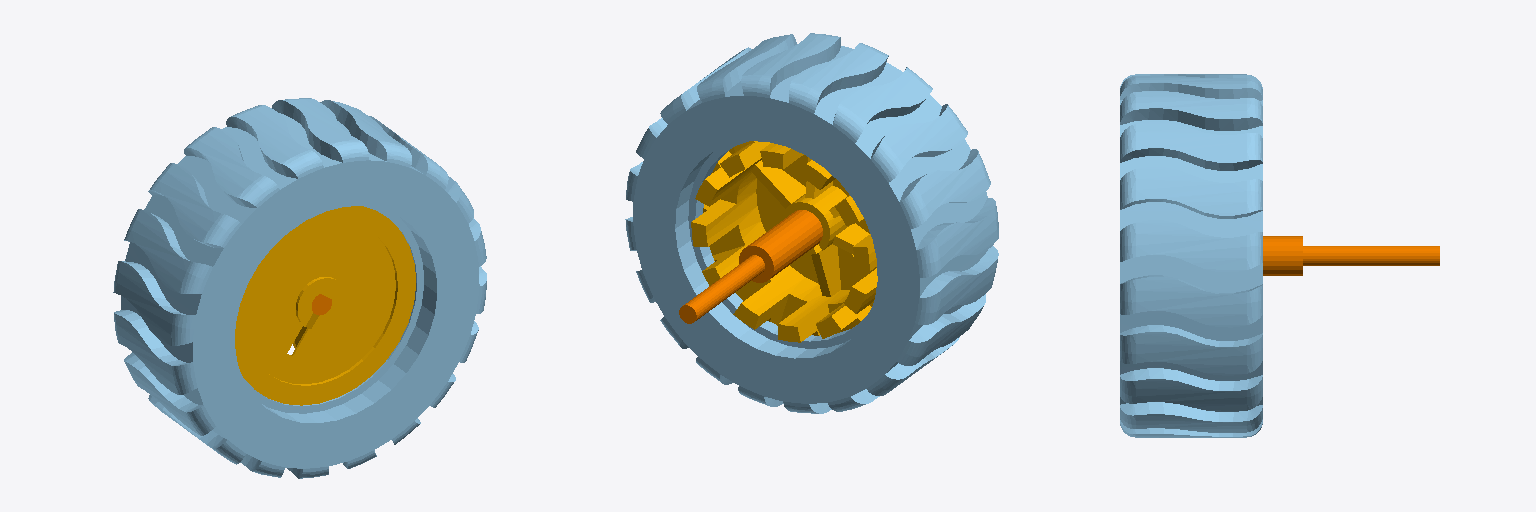
File: roda_kiri_depan.obj
3 renders of one model, left to right at view 1: azimuth 30°, elevation 25°; view 2: azimuth 150°, elevation 25°; view 3: azimuth 270°, elevation 25°, orthographic.
Visible parts, largest first — view 1: roda_kiri_depan; view 2: roda_kiri_depan; view 3: roda_kiri_depan.
Boxes of the visible parts, x1=… form: roda_kiri_depan: x1=113, y1=98, x2=486, y2=478; roda_kiri_depan: x1=625, y1=33, x2=998, y2=413; roda_kiri_depan: x1=1120, y1=74, x2=1439, y2=437.
Size of the model in its own units: 0.0454 by 0.0454 by 0.04.